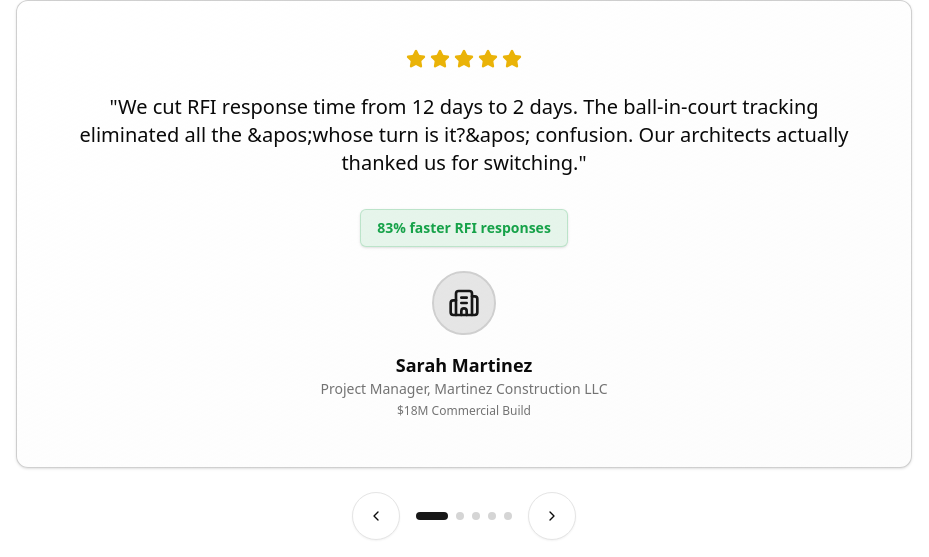
Test: TestimonialCarousel › Auto-rotation › should stop auto-rotation when user navigates manually
Click next button
Click the button named "next testimonial" at (552, 516), box [528, 492, 576, 540]
Wait 6000 ms
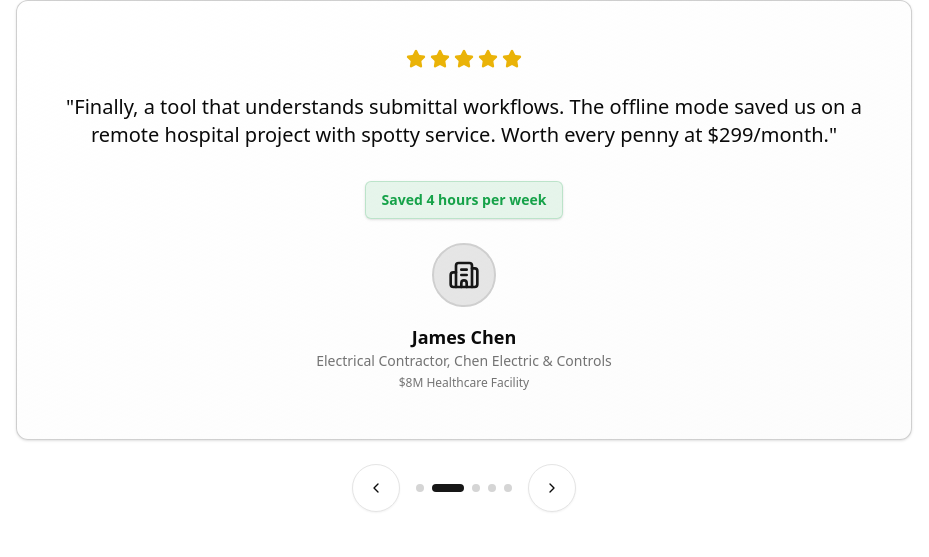
Expected: the text "James Chen" is shown, [412, 325, 516, 349]
